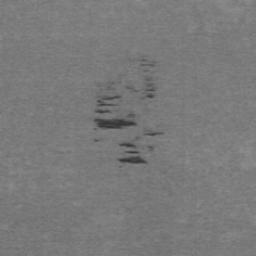Secondary rust skin: (92, 94, 138, 131), (117, 141, 150, 165), (144, 131, 165, 138), (145, 92, 156, 99)
